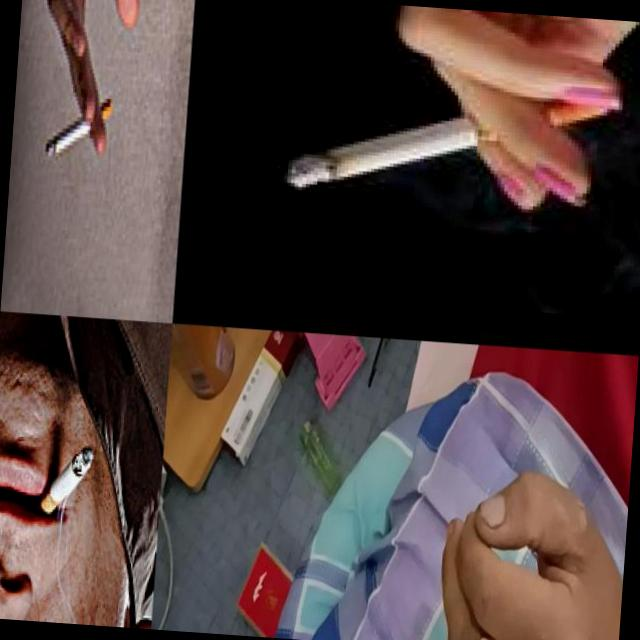smoke: (282, 71, 612, 211), (41, 94, 112, 171), (34, 442, 94, 524), (457, 611, 503, 640)
